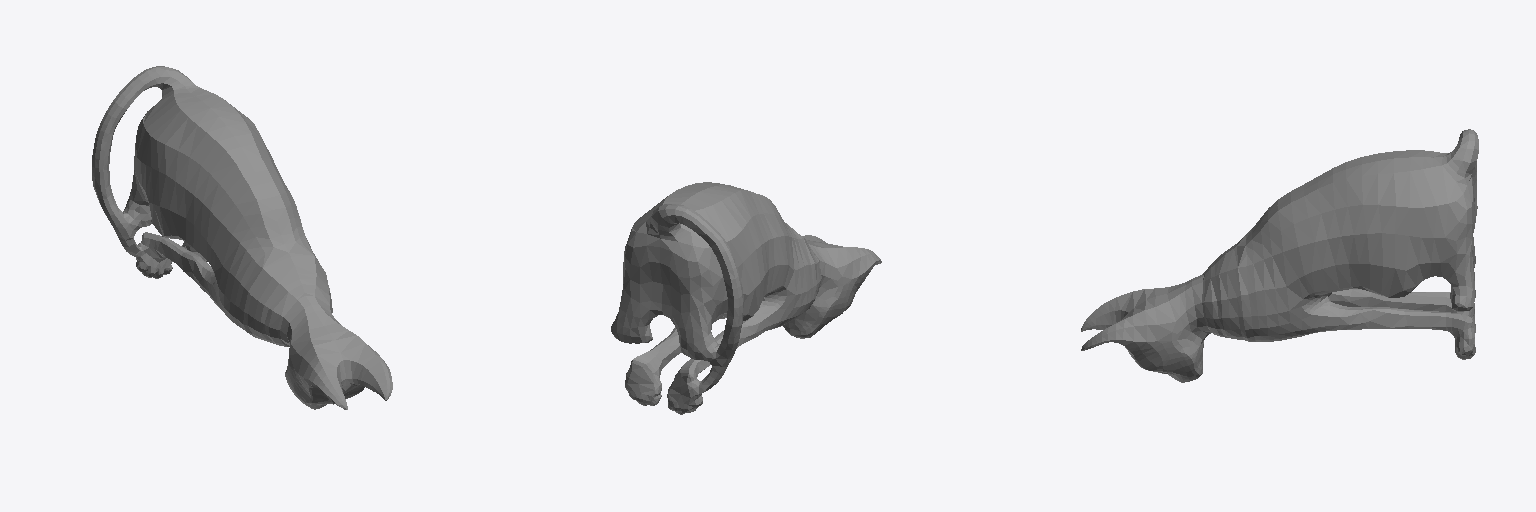
The model's file is gato.obj.
The picture shows the model from 3 angles: view 1: azimuth 30°, elevation 25°; view 2: azimuth 150°, elevation 25°; view 3: azimuth 270°, elevation 25°; orthographic projection.
Visible parts, largest first — view 1: Cat_Statue; view 2: Cat_Statue; view 3: Cat_Statue.
Boxes of the visible parts, x1=… form: Cat_Statue: x1=92, y1=66, x2=392, y2=409; Cat_Statue: x1=611, y1=182, x2=881, y2=414; Cat_Statue: x1=1081, y1=129, x2=1478, y2=382.
Size of the model in its own units: 1.58 by 2.67 by 4.